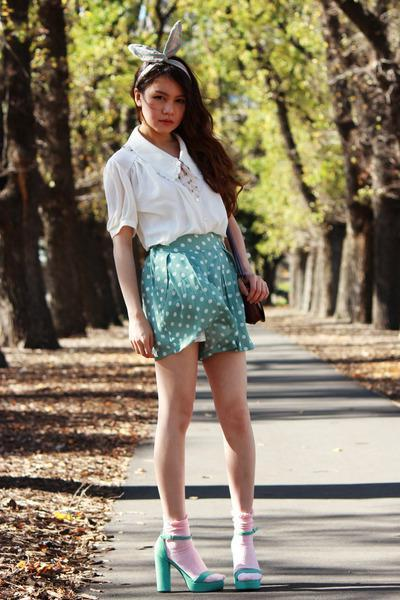short sleeve shirt: (98, 128, 235, 240)
skirt: (137, 230, 258, 368)
